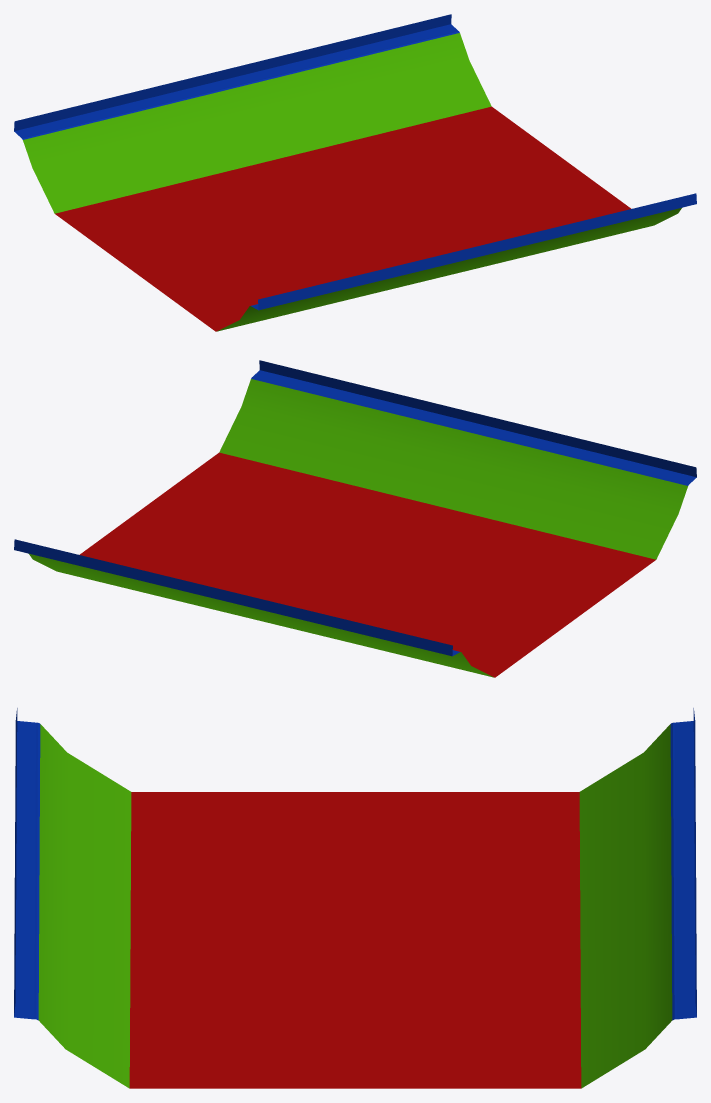
The model's file is asset_plafond.fbx.
3 views of the same model, one above another, from view 1: azimuth 30°, elevation 25°; view 2: azimuth 150°, elevation 25°; view 3: azimuth 270°, elevation 25° (orthographic). The views are drawn at different scales.
Visible parts, largest first — view 1: polySurface75; view 2: polySurface75; view 3: polySurface75.
Boxes of the visible parts, x1,y1,x2,y2 form: polySurface75: [14, 14, 696, 331]; polySurface75: [14, 360, 696, 677]; polySurface75: [14, 708, 696, 1088].
Bounding box in the file's own units: 4 × 0.542 × 3.89.
